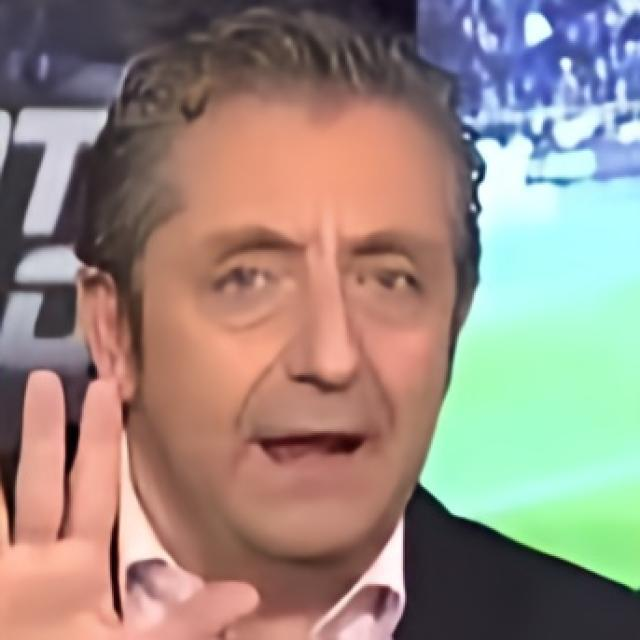anger: (140, 91, 456, 554)
